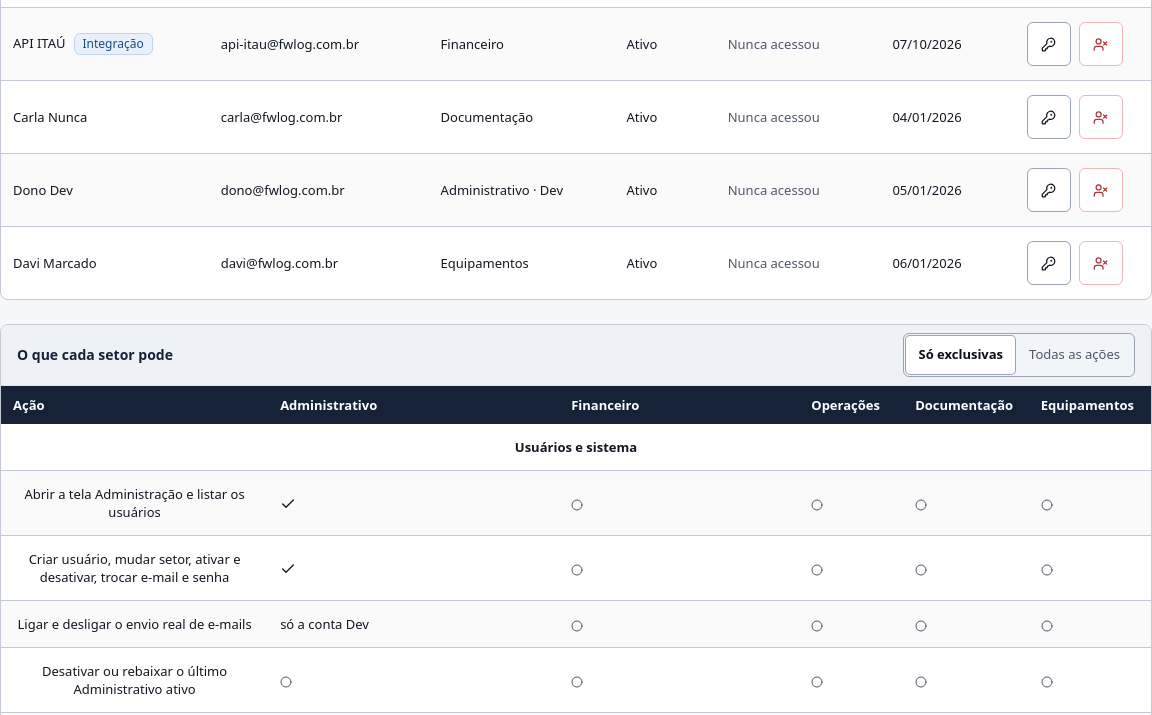
mostra "O que cada setor pode" sem o papel extinto, com as ações exclusivas por padrão
(page scrolled)
Expected: the text "Importar arquivos (B/L, CE, Baplie, veículos, Vazios, Granito, datas, Clientes)" is not shown
Click the radio button labelled "Todas as ações" at (1075, 355), box [1017,336,1132,374]
(page scrolled)
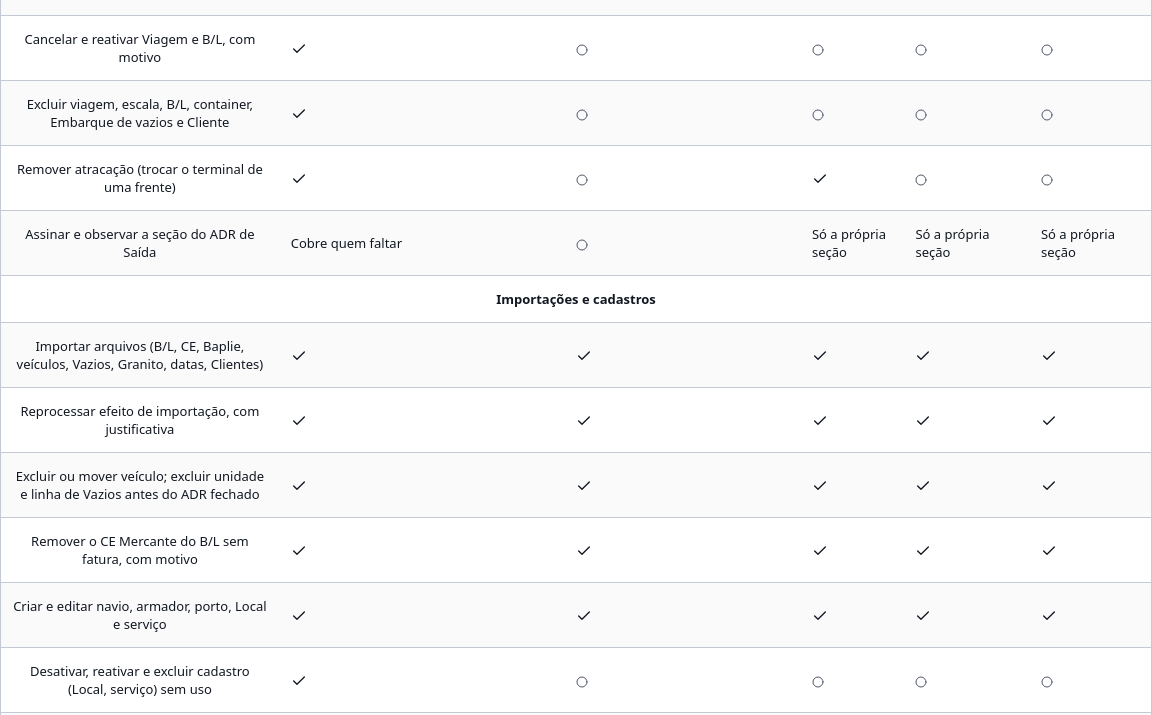
Expected: the column heading "Importar arquivos (B/L, CE, Baplie, veículos, Vazios, Granito, datas, Clientes)" is shown, [1,322,279,388]
